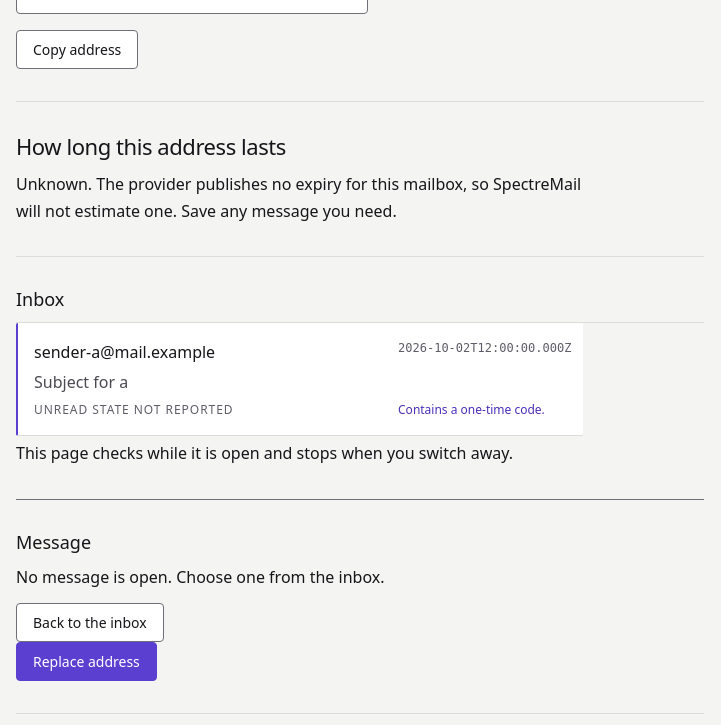
the message view › what the page found in a message › reports a refused clipboard and leaves the code on screen
This screenshot has width=721, height=725.
(page scrolled)
Click the button with test id "inbox-row-open".
click(125, 352)  # box [16, 323, 583, 436]
(page scrolled)
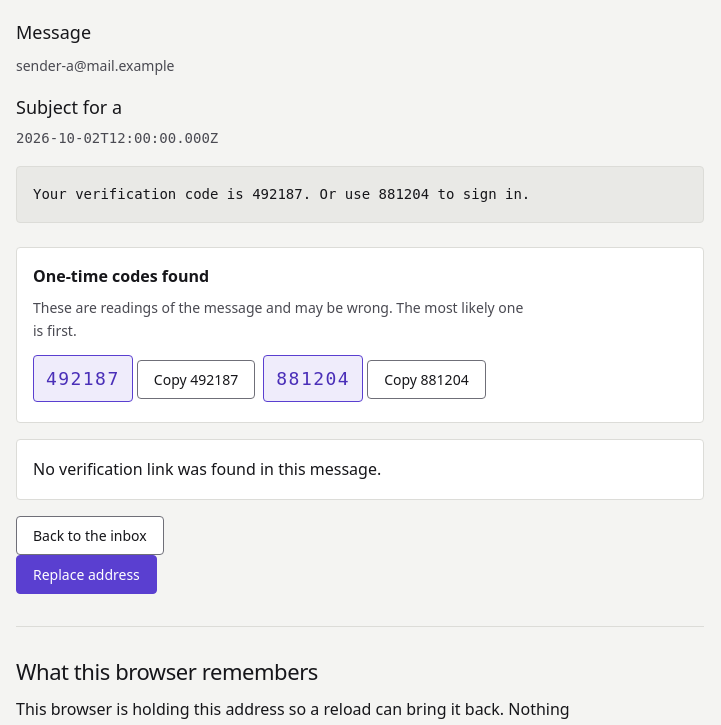
Check: the element with test id "message-opened" is shown, box [16, 54, 704, 500]
Click the button with test id "message-code-copy" showing "Copy 492187".
click(196, 379)  # box [137, 360, 255, 398]
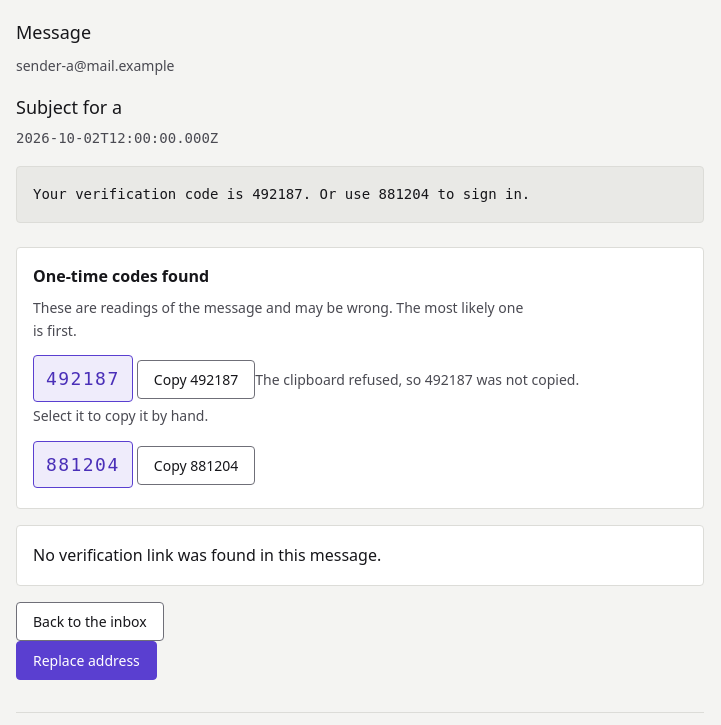
Check: the message with test id "message-code-status" shows "was not copied", box [33, 370, 579, 425]
